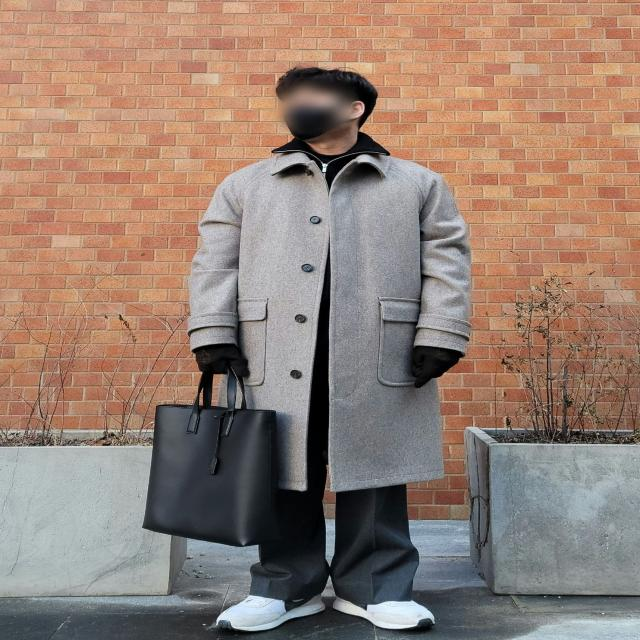coat: (188, 150, 472, 493)
slacks: (245, 479, 420, 603)
